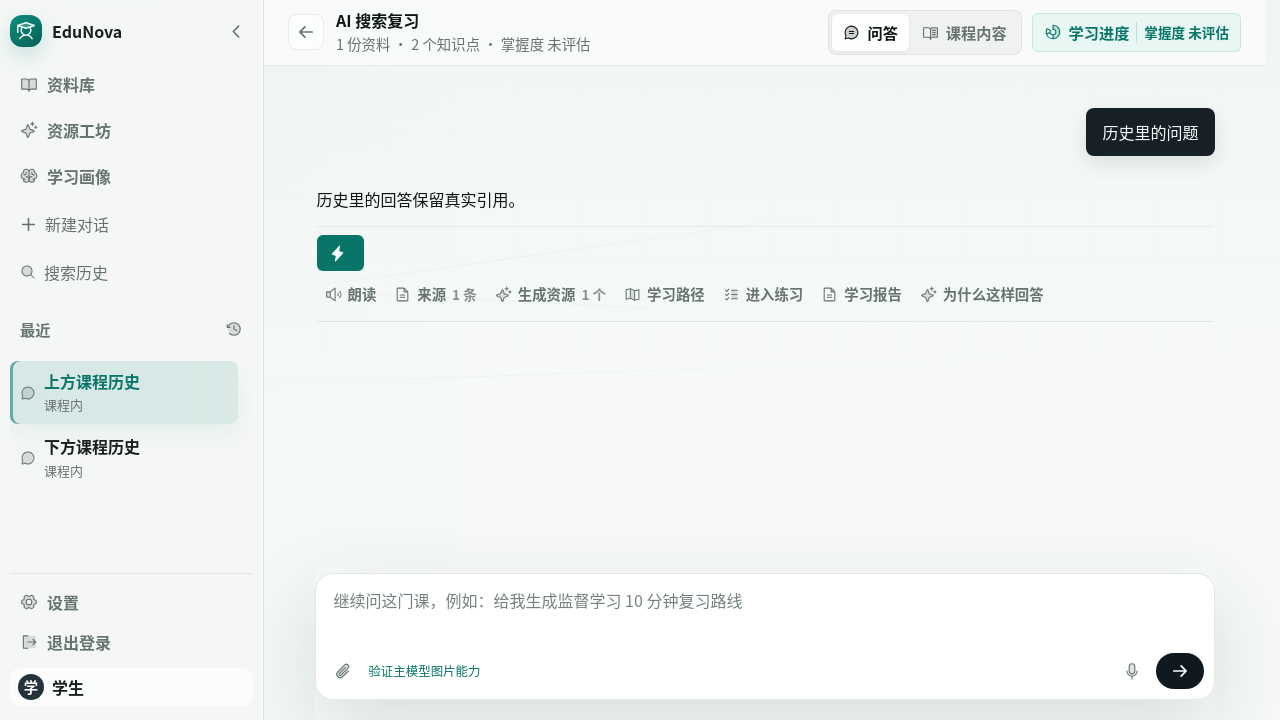
it: CourseSpacePage course tutor sessions › keeps course history order when selecting an older session
Step 1. Click the button "下方课程历史 课程内" → [106, 458], box [16, 432, 196, 484]
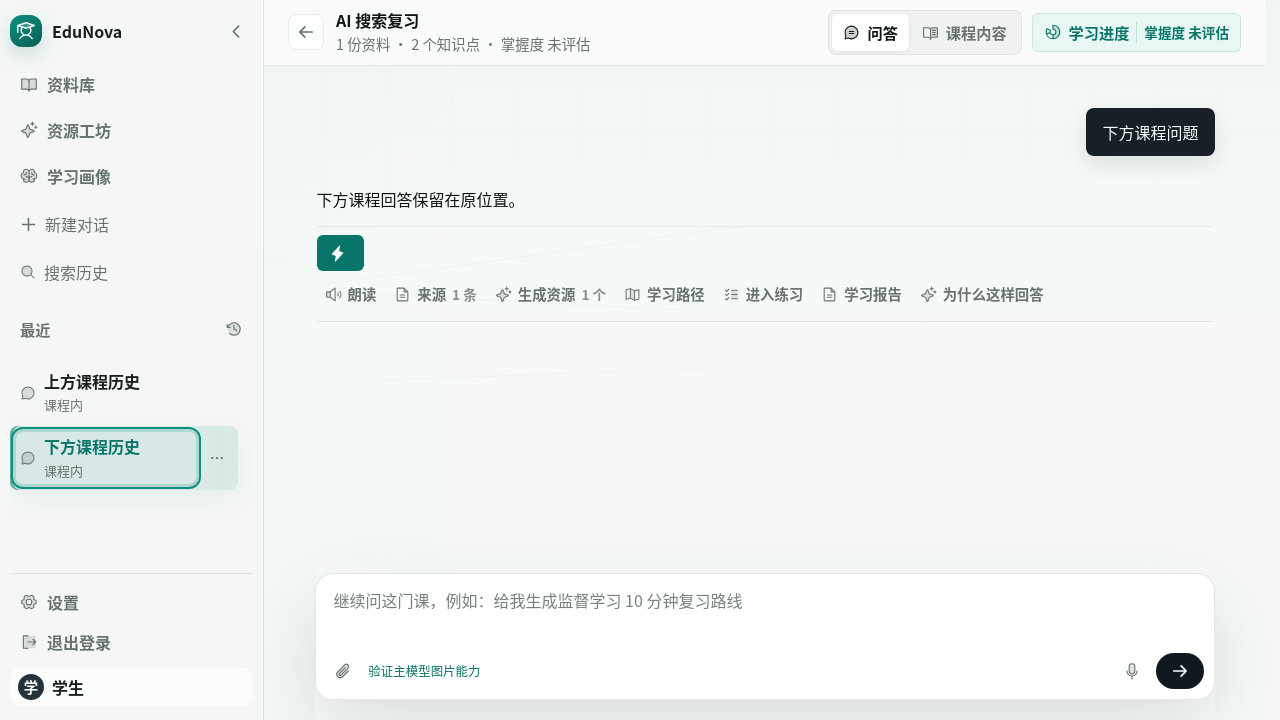
Expected: the buttons "课程历史" read "上方课程历史课程内", "下方课程历史课程内", in this order, [16, 367, 196, 418]; [16, 432, 196, 484]
Expected: the text "下方课程问题" is shown, [1102, 119, 1198, 145]
